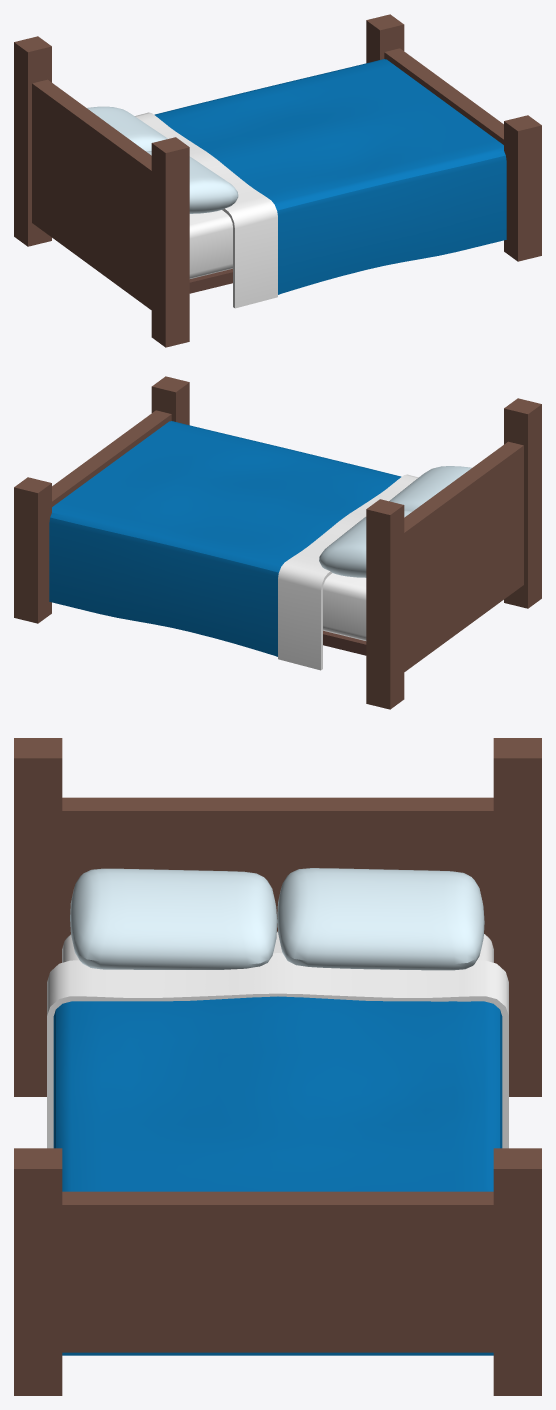
File: bed.gltf
3 views of the same model, one above another, from view 1: azimuth 30°, elevation 25°; view 2: azimuth 150°, elevation 25°; view 3: azimuth 270°, elevation 25° (orthographic). The views are drawn at different scales.
Visible parts, largest first — view 1: Cube.236; view 2: Cube.236; view 3: Cube.236.
Part boxes in pixels (x1,y1,x2,y2): Cube.236: (14, 14, 541, 347); Cube.236: (14, 376, 541, 709); Cube.236: (14, 738, 541, 1395).
Bounding box in the file's own units: 2.03 × 1 × 1.41.
1 material, 1 textured.
